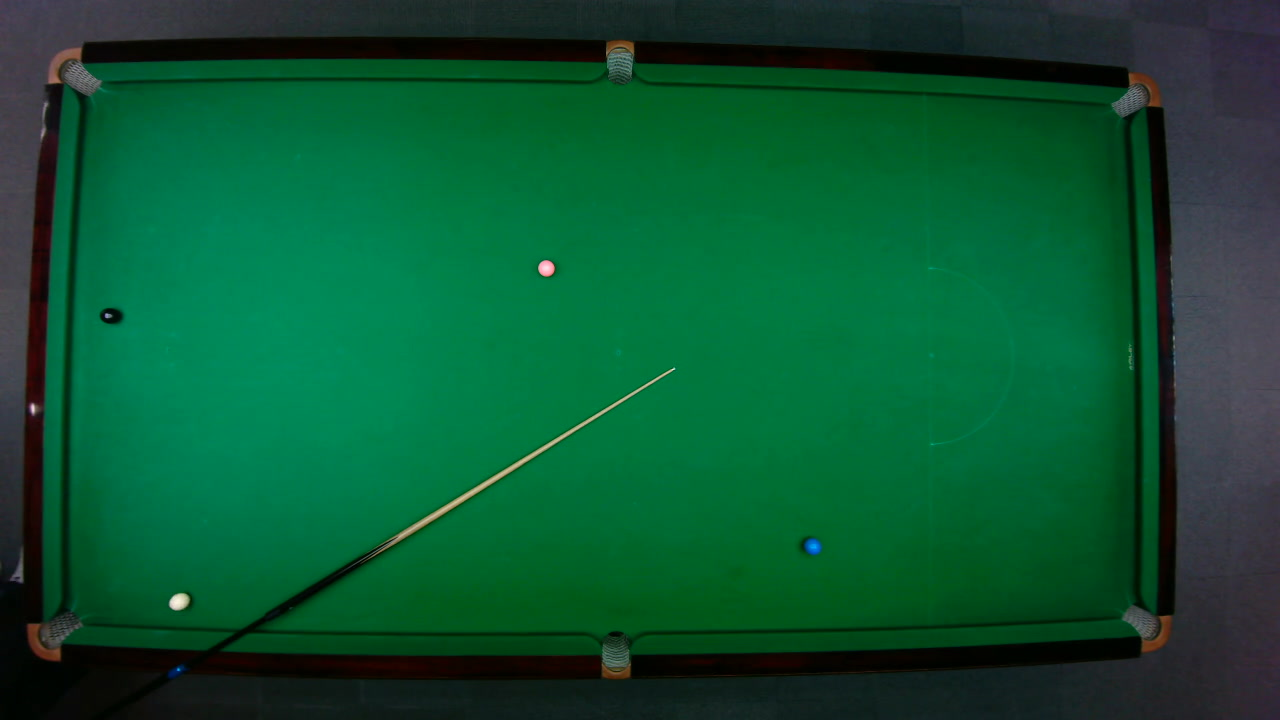bag: (25, 608, 83, 661), (45, 46, 102, 96), (1120, 603, 1172, 652), (1108, 71, 1161, 118), (600, 629, 629, 680), (605, 38, 633, 85)
black: (98, 306, 120, 323)
blue: (802, 536, 822, 555)
cue: (226, 357, 678, 635)
pink: (536, 258, 555, 277)
white: (167, 590, 191, 610)
zone: (927, 265, 1013, 446)
